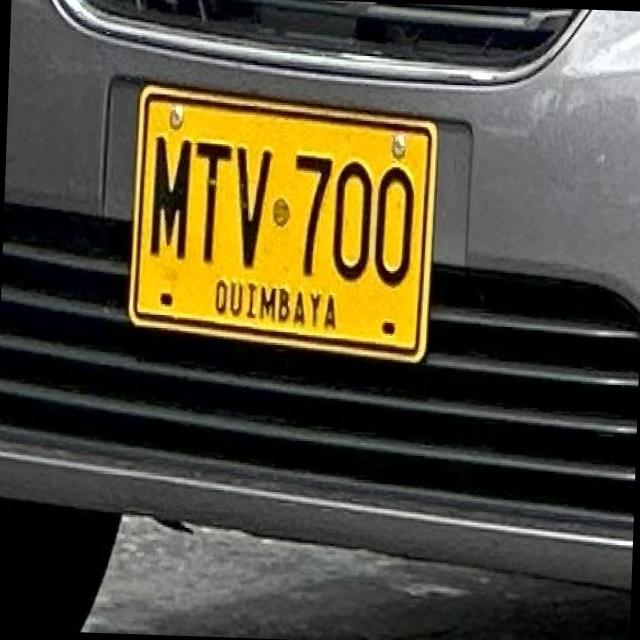number plate: (127, 82, 434, 356)
